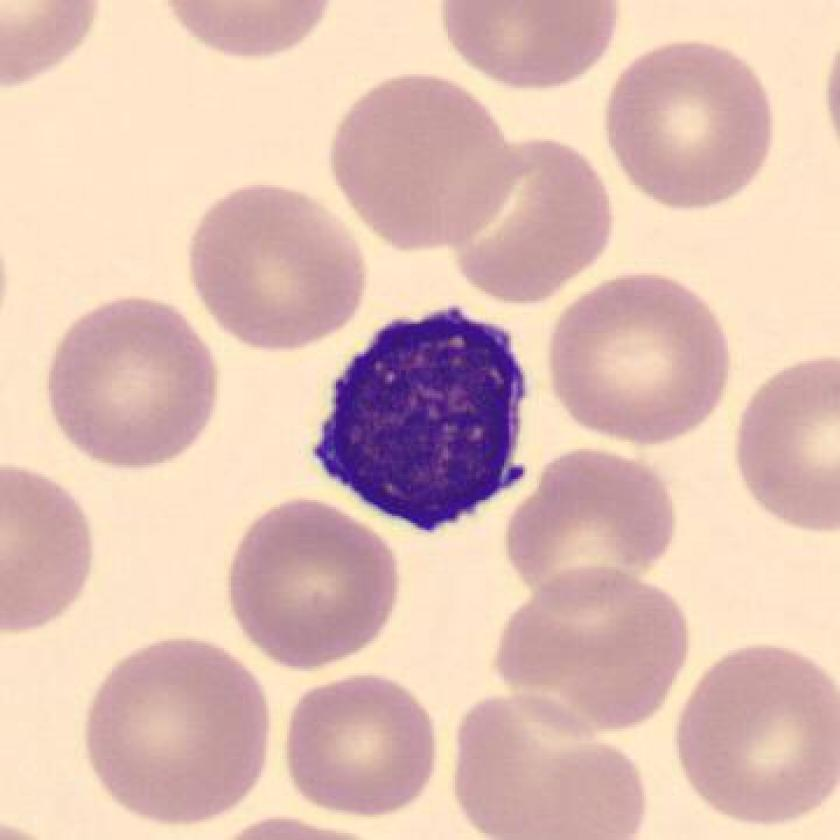lymphocyte: (298, 300, 557, 547)
